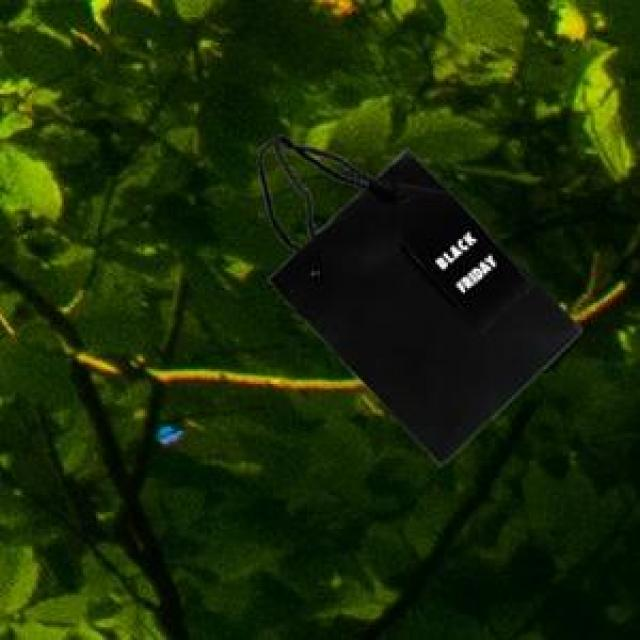Paper -Biodegradable-: (266, 149, 579, 467)
